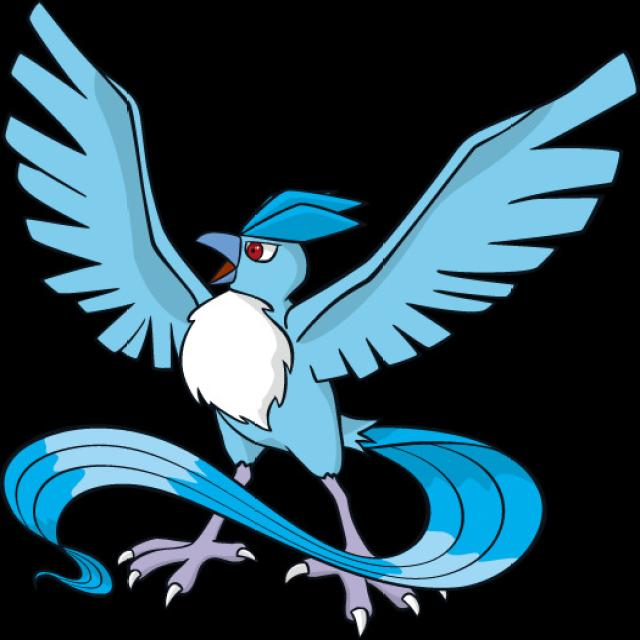Articuno: (101, 153, 481, 625)
